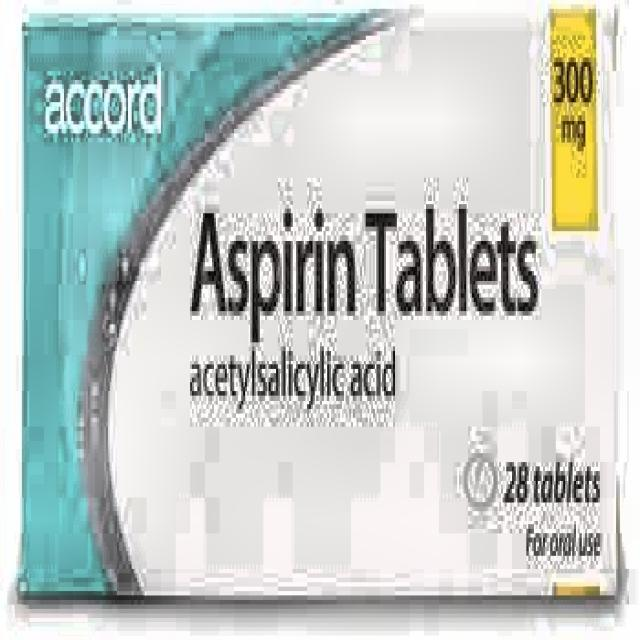Aspirin: (25, 38, 619, 598)
